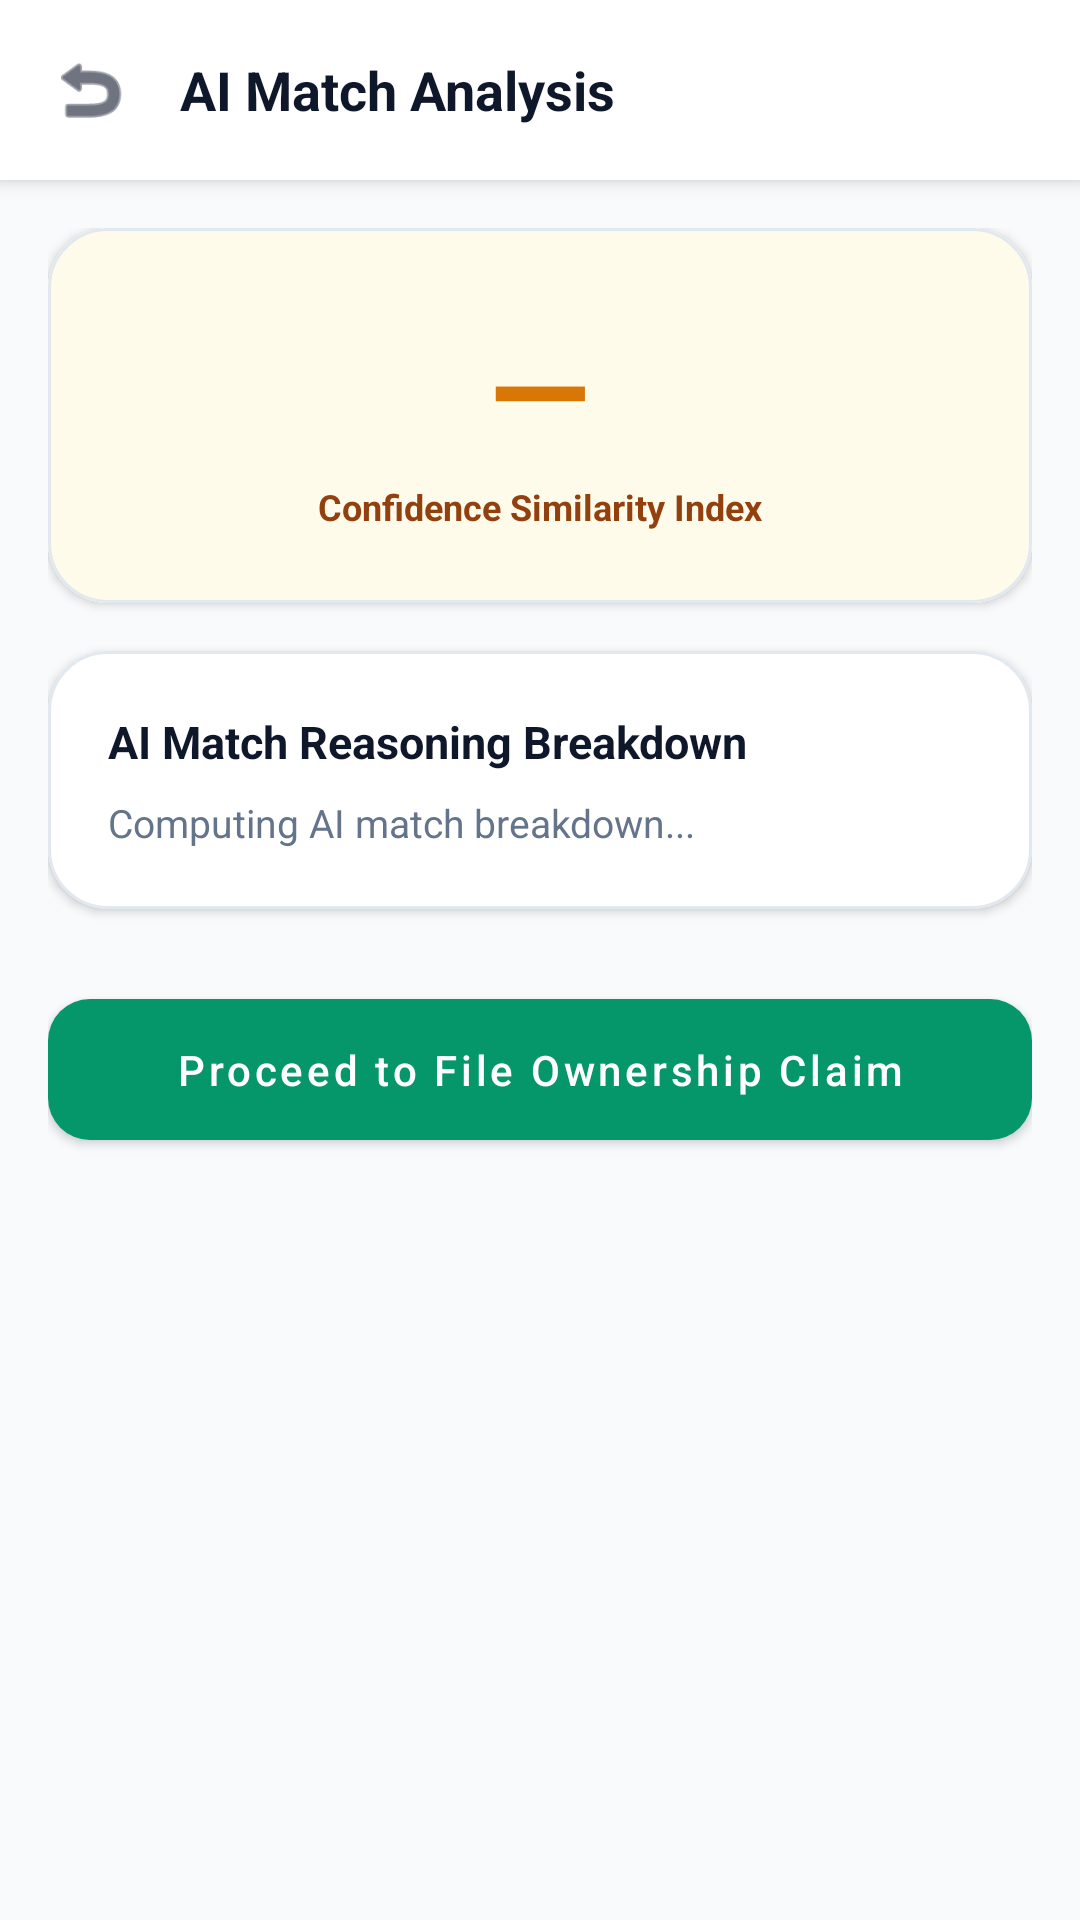

Icon click points for this 1080 x 1920 phone screenshot, format (x=x, y=y):
revert: (x=91, y=90)
